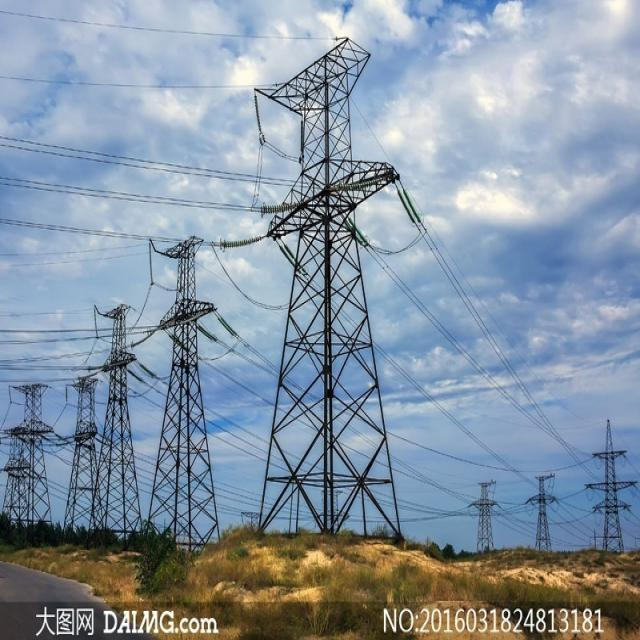non-critical vegetation: (244, 32, 412, 552), (145, 228, 220, 552), (90, 296, 148, 538), (58, 365, 109, 528), (582, 418, 633, 550), (11, 373, 54, 527), (520, 466, 562, 549), (464, 471, 504, 558)
